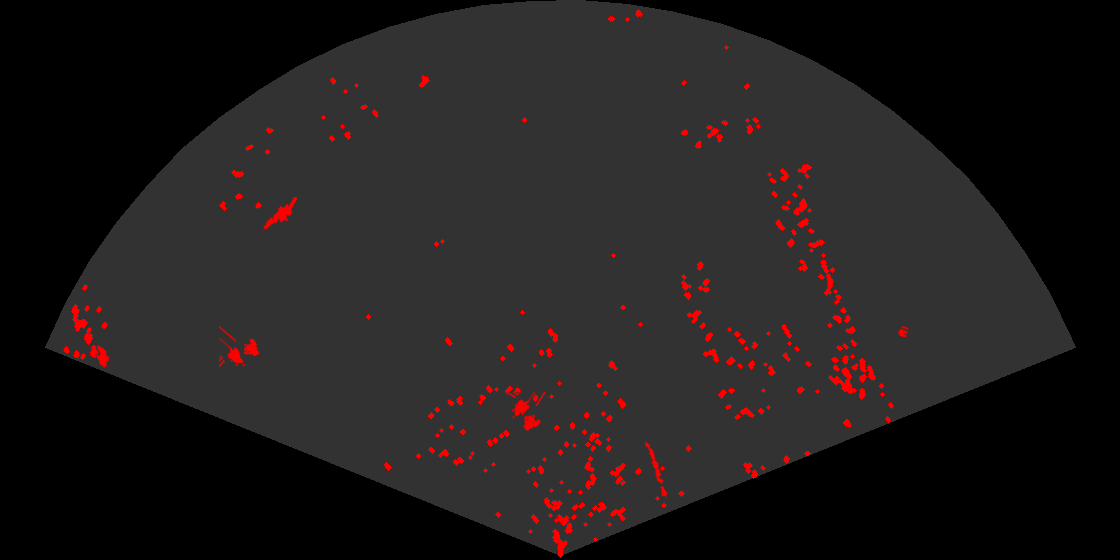AUV: (95, 343, 111, 369)
ball: (896, 324, 911, 339)
cage: (219, 326, 261, 369), (504, 392, 548, 433)
chain: (643, 440, 669, 499)
frogman: (260, 197, 297, 237)
